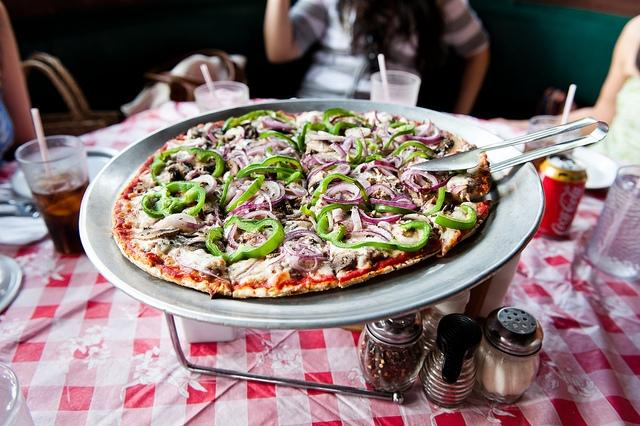bell pepper: (316, 212, 431, 254), (224, 214, 284, 262), (150, 146, 225, 182), (141, 180, 206, 218), (310, 173, 372, 210), (372, 186, 446, 216), (236, 154, 304, 178), (225, 175, 265, 215), (229, 110, 291, 128), (316, 203, 374, 222), (434, 204, 476, 230), (323, 108, 364, 134), (238, 166, 306, 180), (384, 124, 415, 150), (261, 130, 299, 151), (388, 140, 434, 156), (399, 151, 434, 168), (332, 122, 360, 136), (346, 140, 362, 164), (388, 122, 406, 132), (365, 155, 378, 163), (302, 124, 307, 140)
onion: (227, 178, 286, 217), (227, 209, 281, 249), (174, 254, 232, 285), (238, 183, 272, 212), (358, 208, 404, 224), (189, 174, 217, 200), (284, 240, 324, 258), (406, 126, 442, 145), (324, 181, 360, 200), (306, 162, 336, 184), (150, 218, 201, 230), (400, 170, 438, 186), (282, 232, 324, 246), (290, 254, 318, 273), (368, 198, 416, 209), (261, 115, 296, 130), (360, 160, 400, 173), (366, 184, 396, 199), (322, 192, 362, 203), (163, 214, 197, 226), (207, 124, 223, 149), (226, 149, 248, 166), (306, 132, 346, 141), (328, 143, 346, 161), (377, 166, 398, 180), (418, 117, 431, 136), (246, 145, 266, 156), (340, 136, 352, 154), (390, 195, 413, 204), (450, 184, 470, 194), (415, 174, 428, 187), (312, 153, 326, 165), (233, 158, 246, 170), (270, 144, 284, 154), (372, 110, 381, 124), (307, 158, 316, 171), (300, 179, 308, 189), (428, 142, 440, 146), (234, 155, 243, 158)
